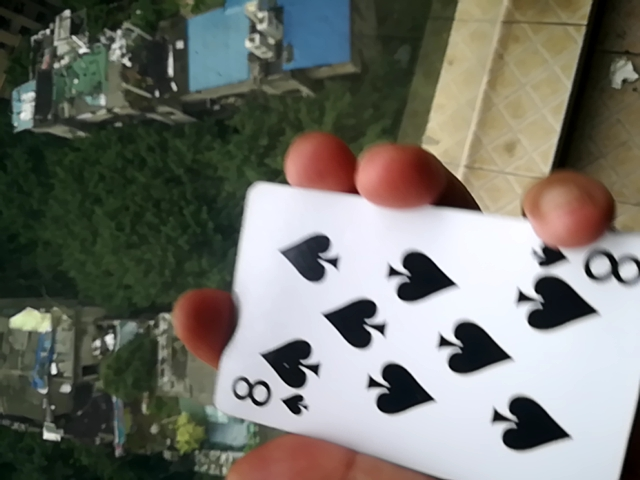ht 8: (205, 185, 634, 480)
